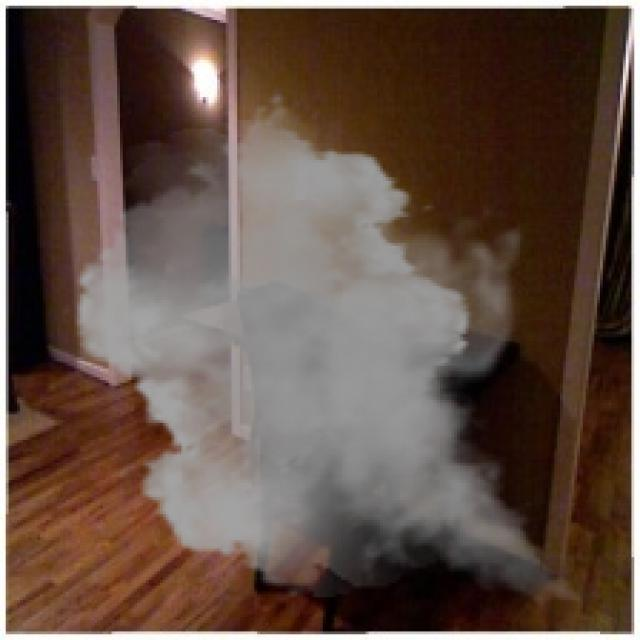smoke: (60, 92, 611, 617)
